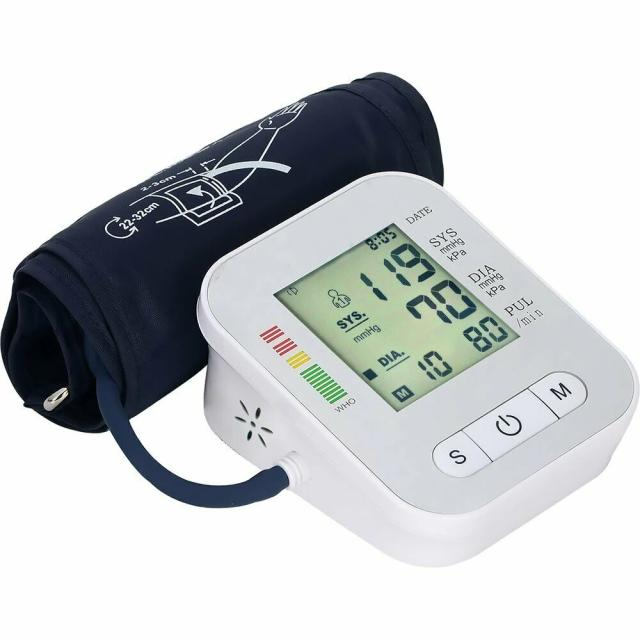dia: (401, 267, 484, 345)
pul: (454, 299, 518, 362)
ssd: (270, 195, 521, 440)
sys: (353, 229, 444, 311)
